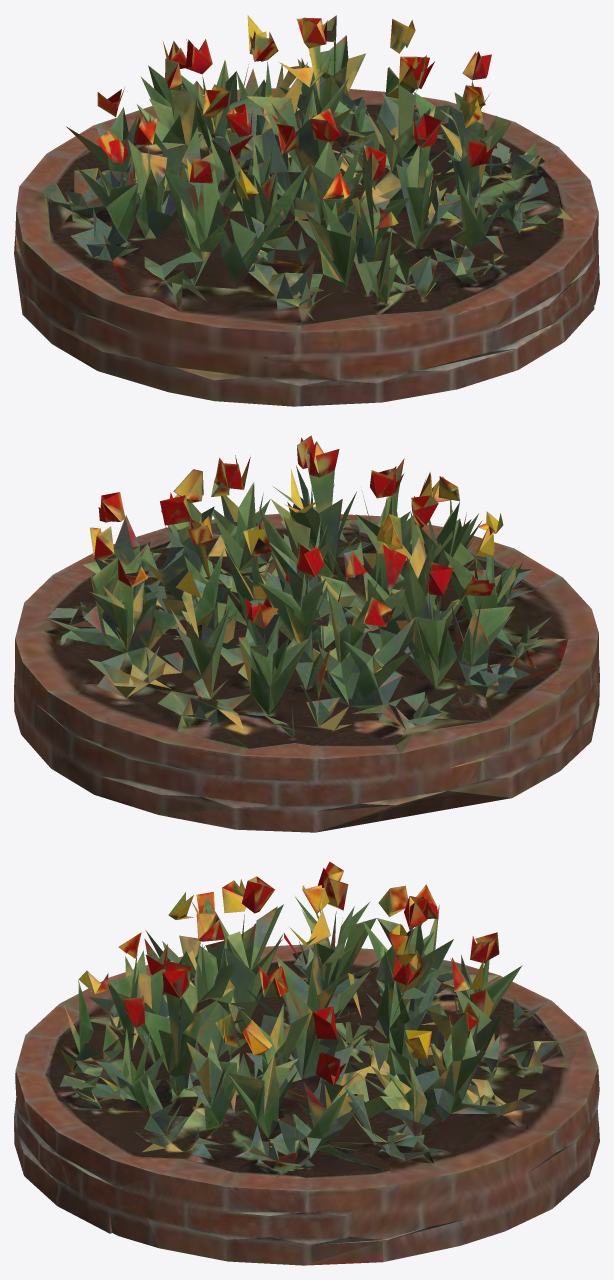
File: prop_flowerbed.glb
3 views of the same model, one above another, from view 1: azimuth 30°, elevation 25°; view 2: azimuth 150°, elevation 25°; view 3: azimuth 270°, elevation 25° (orthographic).
Visible parts, largest first — view 1: Mesh_0; view 2: Mesh_0; view 3: Mesh_0.
Part boxes in pixels (x1,y1,x2,y2): Mesh_0: (14, 15, 599, 406); Mesh_0: (14, 435, 599, 832); Mesh_0: (14, 861, 599, 1265).
Size of the model in its own units: 1.9 by 0.8214 by 1.89.
1 material, 1 textured.
